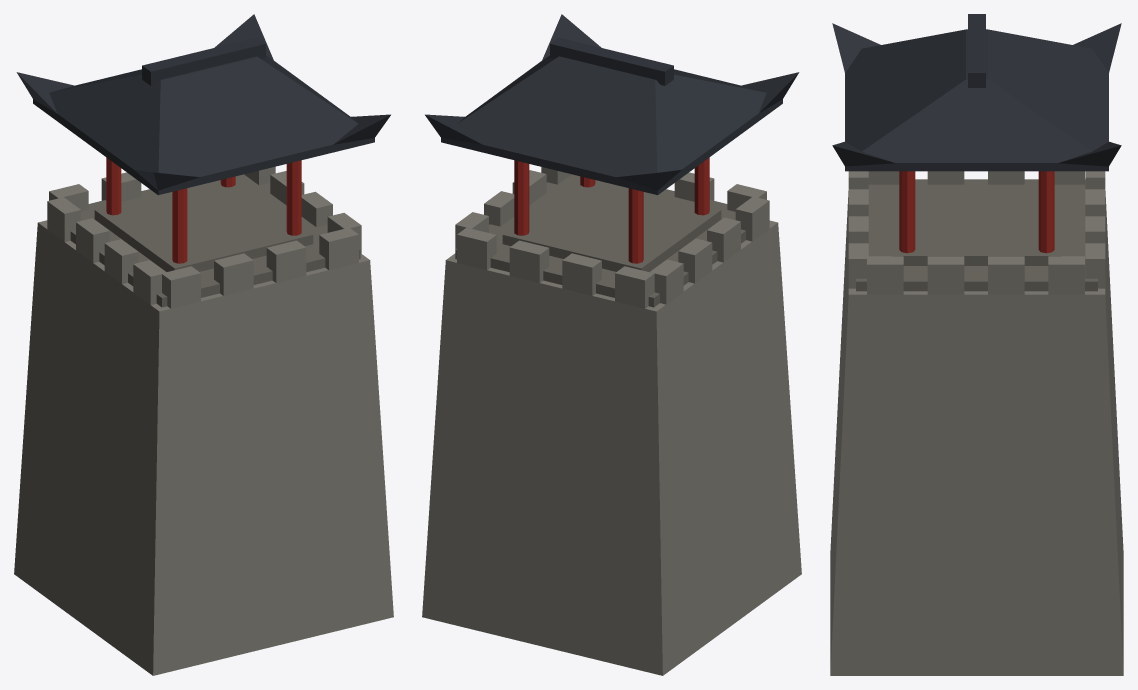
The model's file is tower.glb.
3 views of the same model, side by side, from view 1: azimuth 30°, elevation 25°; view 2: azimuth 150°, elevation 25°; view 3: azimuth 270°, elevation 25° (orthographic). The views are drawn at different scales.
Visible parts, largest first — view 1: Tower; view 2: Tower; view 3: Tower.
Boxes of the visible parts, bbox=[...] form: Tower: bbox=[14, 14, 393, 675]; Tower: bbox=[422, 14, 801, 675]; Tower: bbox=[830, 14, 1123, 675].
Size of the model in its own units: 8 by 17.18 by 8.
